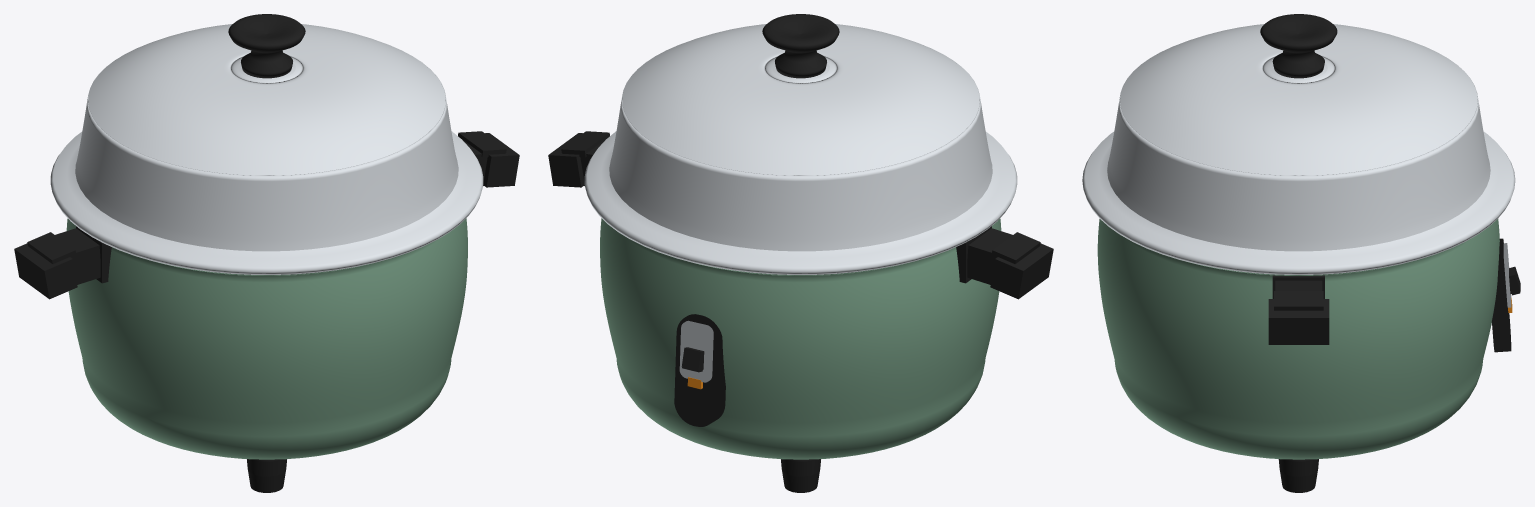
Rendered from RiceCooker.obj.
3 views of the same model, side by side, from view 1: azimuth 30°, elevation 25°; view 2: azimuth 150°, elevation 25°; view 3: azimuth 270°, elevation 25° (orthographic).
Parts seen in each view (by area): view 1: Mat_CookerLid, Mat_CookerBody, Mat_CookerPlastic; view 2: Mat_CookerLid, Mat_CookerBody, Mat_CookerPlastic, Mat_CookerFaceplate; view 3: Mat_CookerLid, Mat_CookerBody, Mat_CookerPlastic.
Part boxes in pixels (x1,y1,x2,y2): Mat_CookerLid: (50,24,483,274); Mat_CookerBody: (66,218,467,459); Mat_CookerPlastic: (14,14,519,492); Mat_CookerLid: (584,24,1017,274); Mat_CookerBody: (600,218,1001,459); Mat_CookerPlastic: (548,14,1053,492); Mat_CookerFaceplate: (679,320,713,382); Mat_CookerLid: (1082,24,1515,274); Mat_CookerBody: (1097,218,1499,459); Mat_CookerPlastic: (1260,14,1520,492).
Size of the model in its own units: 0.3978 by 0.318 by 0.3178.
